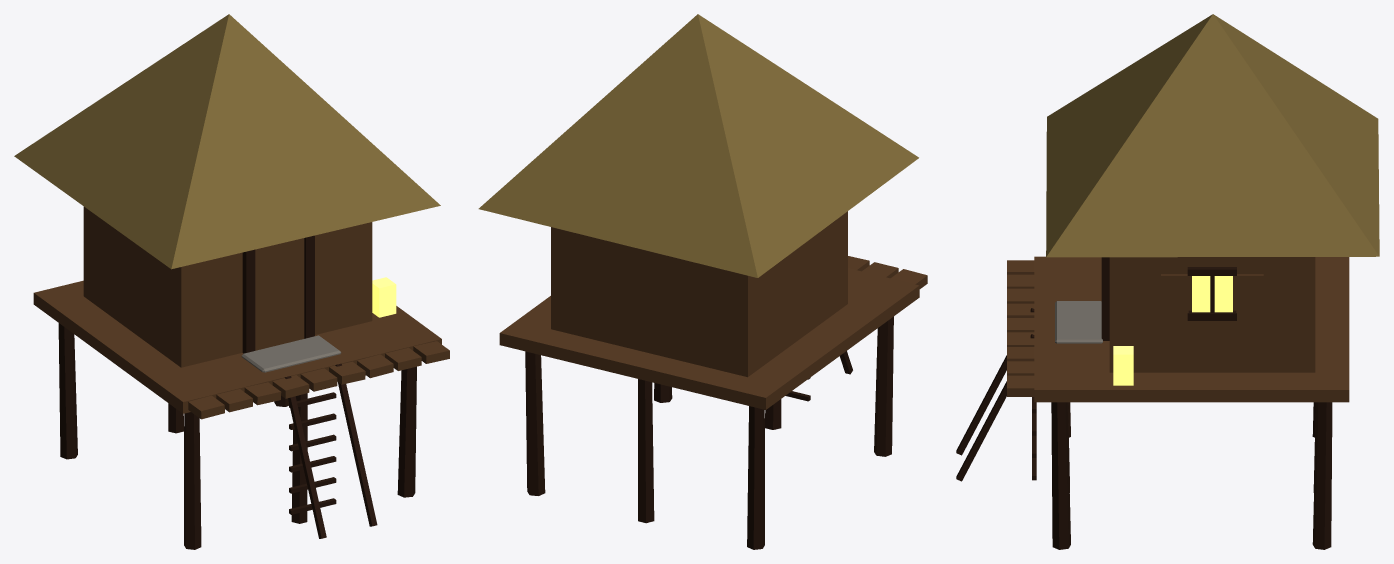
Rendered from choza_pantano.fbx.
The picture shows the model from 3 angles, left to right: view 1: azimuth 30°, elevation 25°; view 2: azimuth 150°, elevation 25°; view 3: azimuth 270°, elevation 25°; orthographic projection. The views are drawn at different scales.
Visible parts, largest first — view 1: choza_pantano; view 2: choza_pantano; view 3: choza_pantano.
Part boxes in pixels (x1,y1,x2,y2): choza_pantano: (14,14,449,549); choza_pantano: (478,14,927,549); choza_pantano: (956,14,1379,549).
Bounding box in the file's own units: 4.82 × 7.7 × 6.18.
